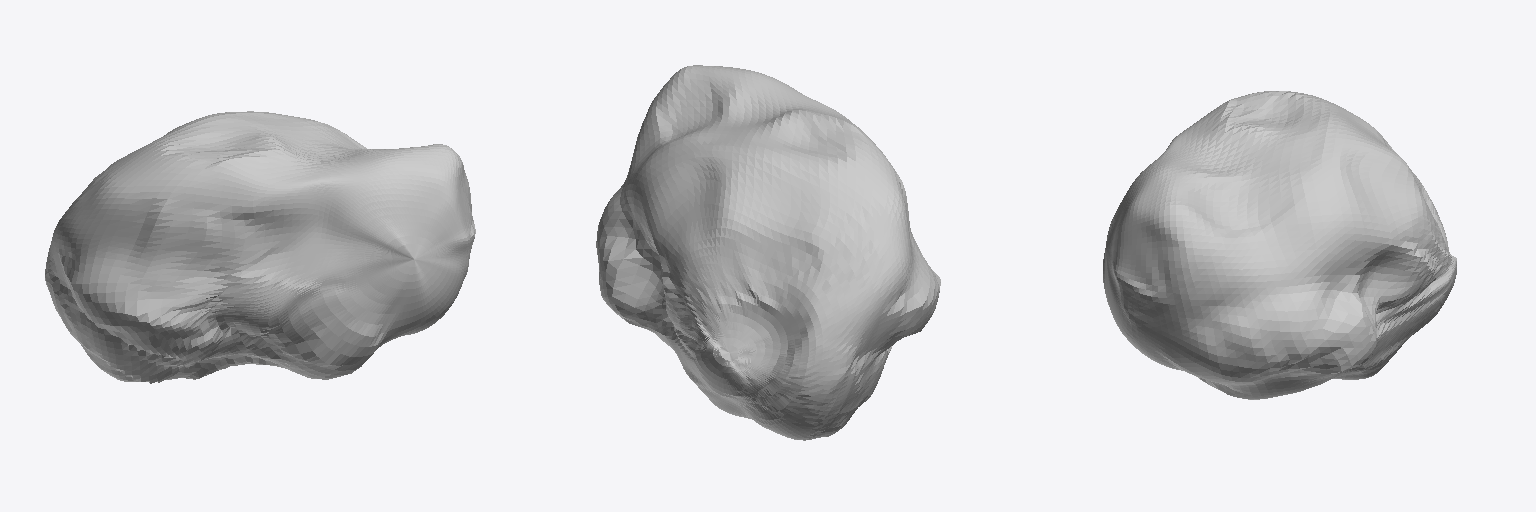
File: rock.OBJ
The picture shows the model from 3 angles: view 1: azimuth 30°, elevation 25°; view 2: azimuth 150°, elevation 25°; view 3: azimuth 270°, elevation 25°; orthographic projection.
Visible parts, largest first — view 1: Group17719; view 2: Group17719; view 3: Group17719.
Part boxes in pixels (bbox=[...]): Group17719: bbox=[45, 111, 475, 383]; Group17719: bbox=[596, 65, 940, 440]; Group17719: bbox=[1103, 91, 1456, 399].
Bounding box in the file's own units: 2.4 × 1.74 × 2.17.